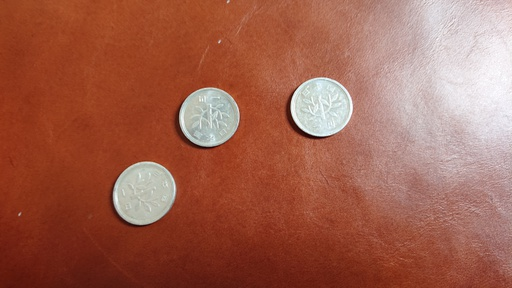1yen: (111, 161, 175, 225), (289, 77, 352, 137), (178, 87, 239, 147)
